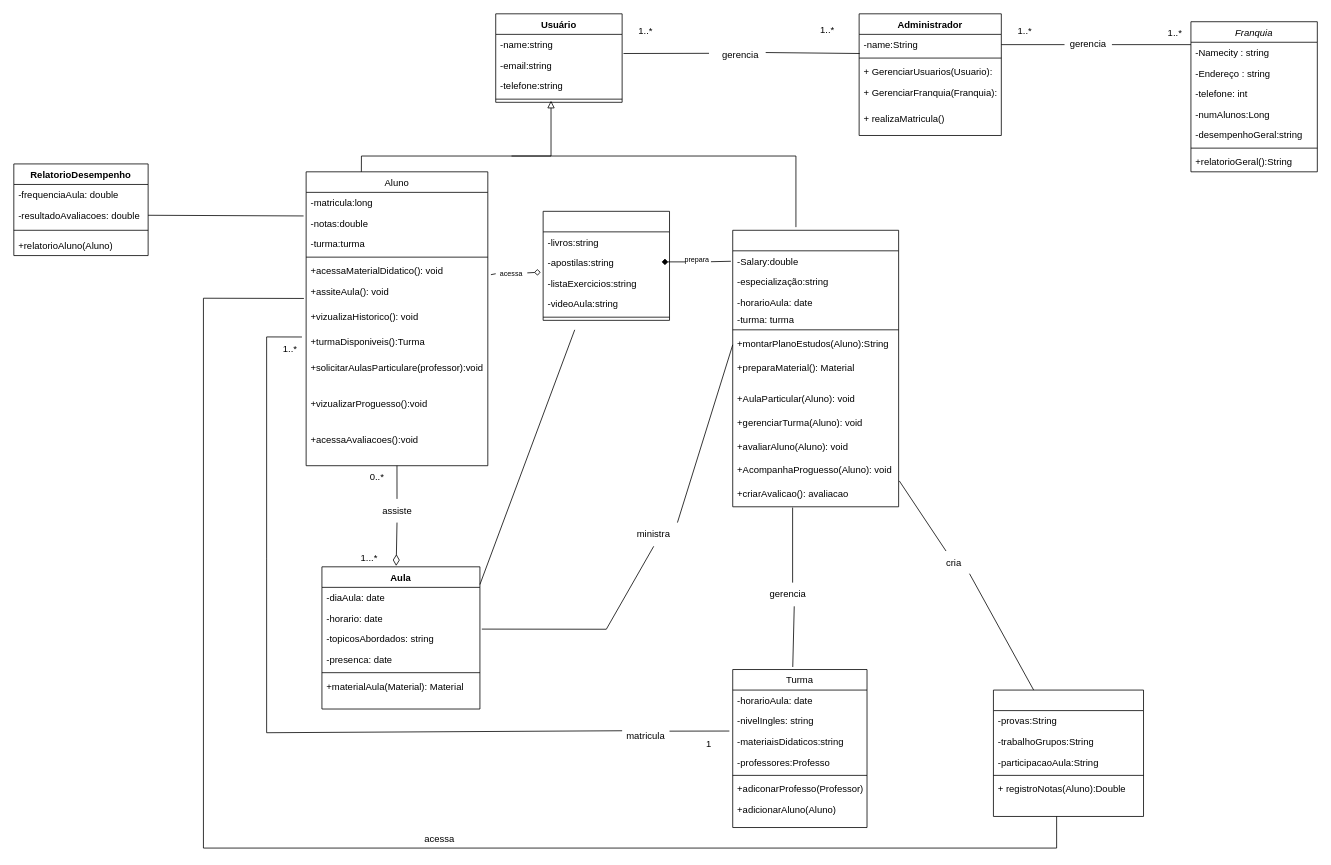
The diagram is 1331 pixels wide and 865 high, and some of its shapes have lost their labels. The shapes that lost their labels are listed below. From the top down, each one's box as (x1, y1, x2, y2) in pixels, then its label:
(542, 211, 670, 320): Material didatico
(732, 229, 899, 507): Professor
(993, 689, 1144, 816): avaliação
